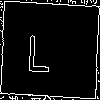L: (25, 25, 52, 72)
